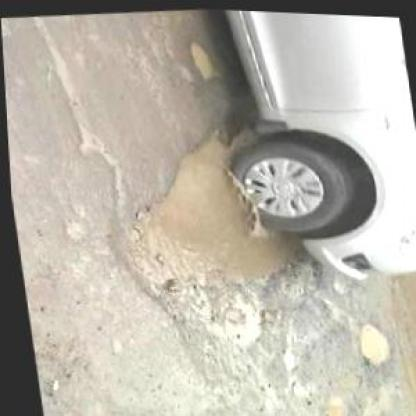pothole: (93, 110, 334, 341), (352, 316, 391, 366), (183, 35, 218, 80)
